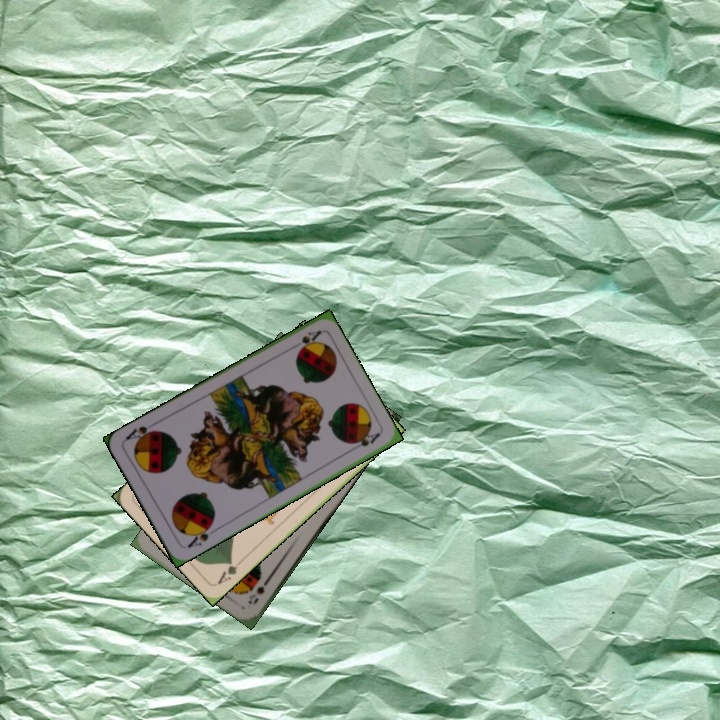GA: (213, 555, 246, 587)
SA: (286, 326, 324, 353), (183, 519, 215, 551)
SO: (244, 573, 273, 607)
